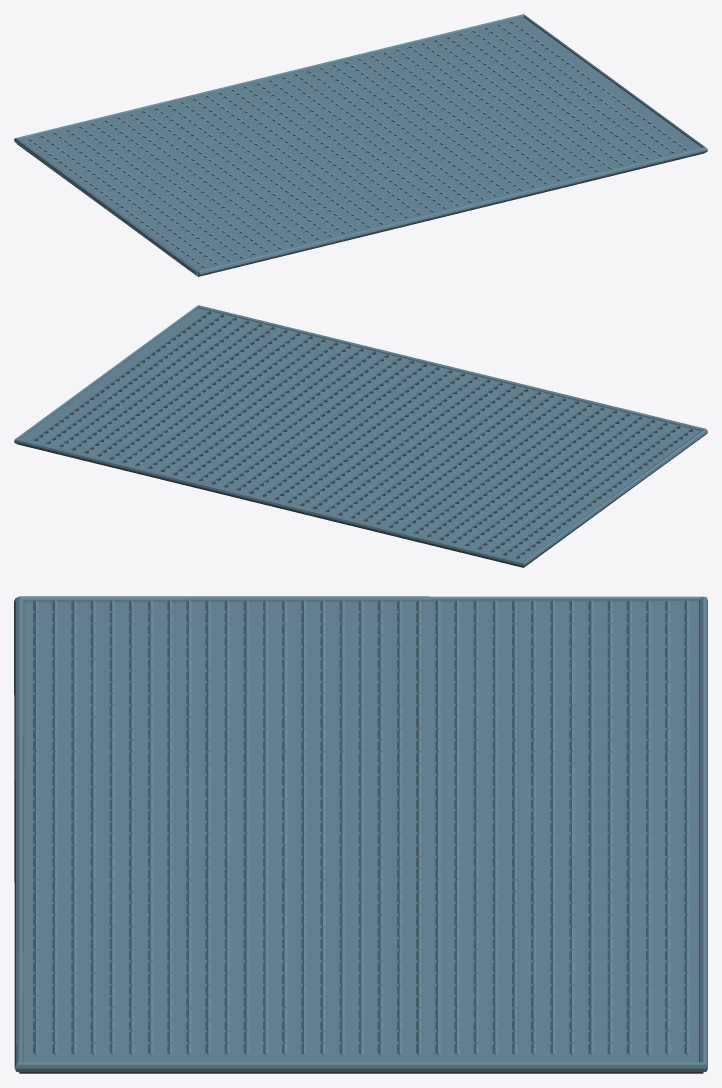
The model's file is apartment-mat-shower.glb.
3 renders of one model, top to bottom at view 1: azimuth 30°, elevation 25°; view 2: azimuth 150°, elevation 25°; view 3: azimuth 270°, elevation 25°, orthographic. The views are drawn at different scales.
Parts seen in each view (by area): view 1: apartment-mat-shower authored assembly; view 2: apartment-mat-shower authored assembly; view 3: apartment-mat-shower authored assembly.
Boxes of the visible parts, x1,y1,x2,y2 form: apartment-mat-shower authored assembly: [14, 14, 707, 276]; apartment-mat-shower authored assembly: [14, 305, 707, 567]; apartment-mat-shower authored assembly: [14, 596, 707, 1073].
Bounding box in the file's own units: 0.8 × 0.012 × 0.5.
